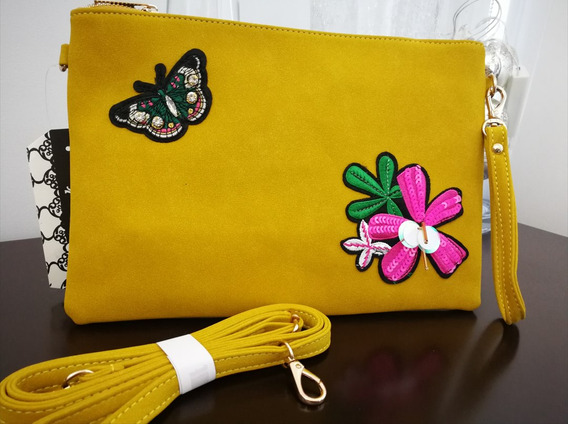cartera: (58, 3, 534, 327)
